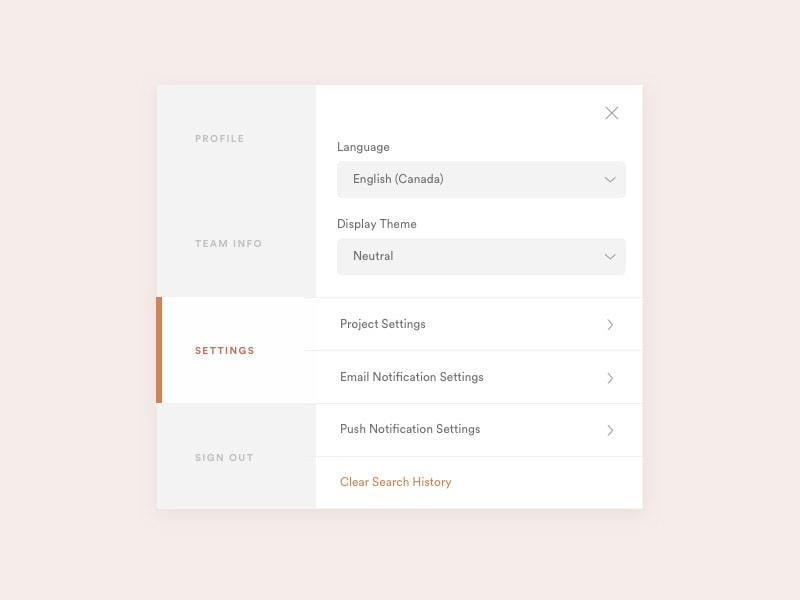dropdown: (339, 162, 627, 198), (339, 238, 626, 274)
icon: (603, 318, 619, 335), (604, 107, 621, 122), (606, 423, 619, 441), (605, 370, 617, 387)
label: (339, 367, 491, 387), (339, 421, 485, 439), (340, 475, 456, 493), (337, 216, 422, 234), (339, 319, 432, 335), (193, 236, 266, 253), (193, 343, 259, 359), (193, 449, 256, 465), (335, 139, 393, 156), (193, 131, 249, 147)
